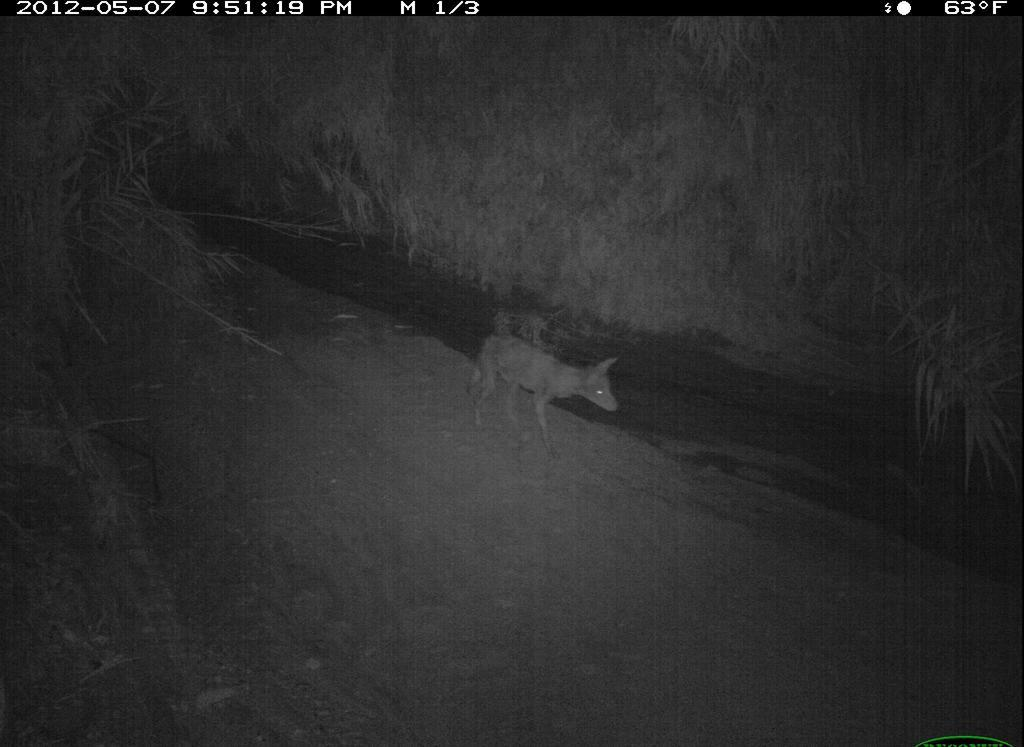coyote: (921, 652, 1024, 747)
